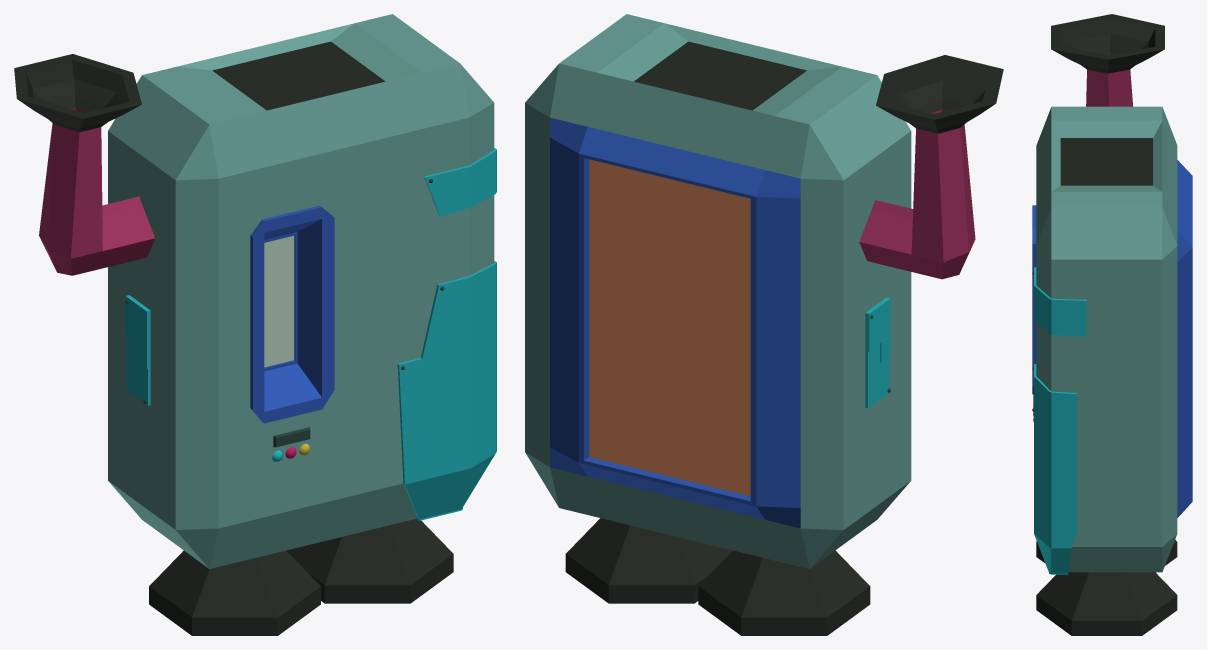
Rendered from jetpack.fbx.
3 views of the same model, side by side, from view 1: azimuth 30°, elevation 25°; view 2: azimuth 150°, elevation 25°; view 3: azimuth 270°, elevation 25° (orthographic). The views are drawn at different scales.
Parts seen in each view (by area): view 1: Cube; view 2: Cube; view 3: Cube.
Boxes of the visible parts, box(x1,y1,x2,y2) form: Cube: box(14, 14, 496, 635); Cube: box(525, 14, 1003, 635); Cube: box(1032, 14, 1192, 635).
Bounding box in the file's own units: 834 × 1000 × 319.
